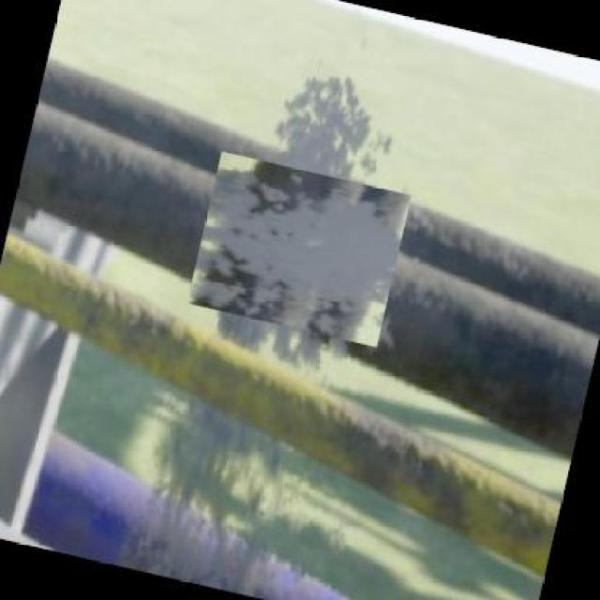gas: (200, 216, 358, 462)
